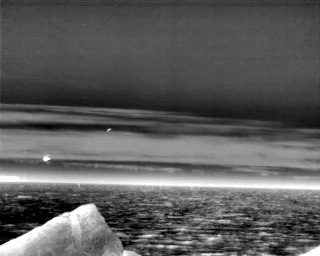HELICOPTER: (40, 152, 53, 165)
